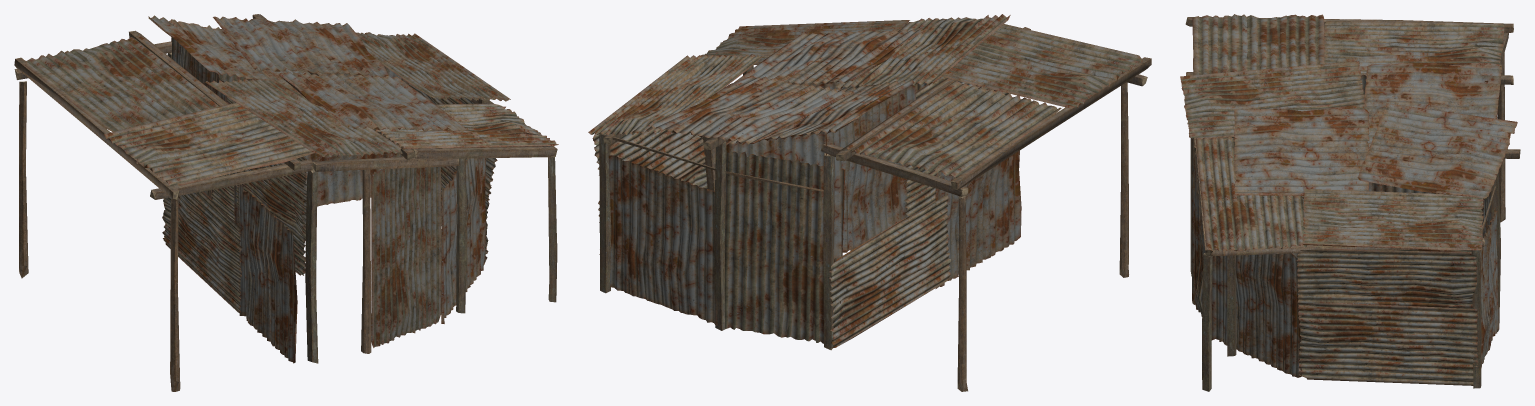
The model's file is SM_MetalCabin.fbx.
3 renders of one model, left to right at view 1: azimuth 30°, elevation 25°; view 2: azimuth 150°, elevation 25°; view 3: azimuth 270°, elevation 25°, orthographic. The views are drawn at different scales.
Parts seen in each view (by area): view 1: SM_MetalCabin_LOD0; view 2: SM_MetalCabin_LOD0; view 3: SM_MetalCabin_LOD0.
Boxes of the visible parts, box(x1,y1,x2,y2) form: SM_MetalCabin_LOD0: box(14, 14, 558, 391); SM_MetalCabin_LOD0: box(588, 14, 1151, 391); SM_MetalCabin_LOD0: box(1180, 14, 1520, 391).
Size of the model in its own units: 551 by 426 by 297.
Materials: 1 (1 with a texture image).
